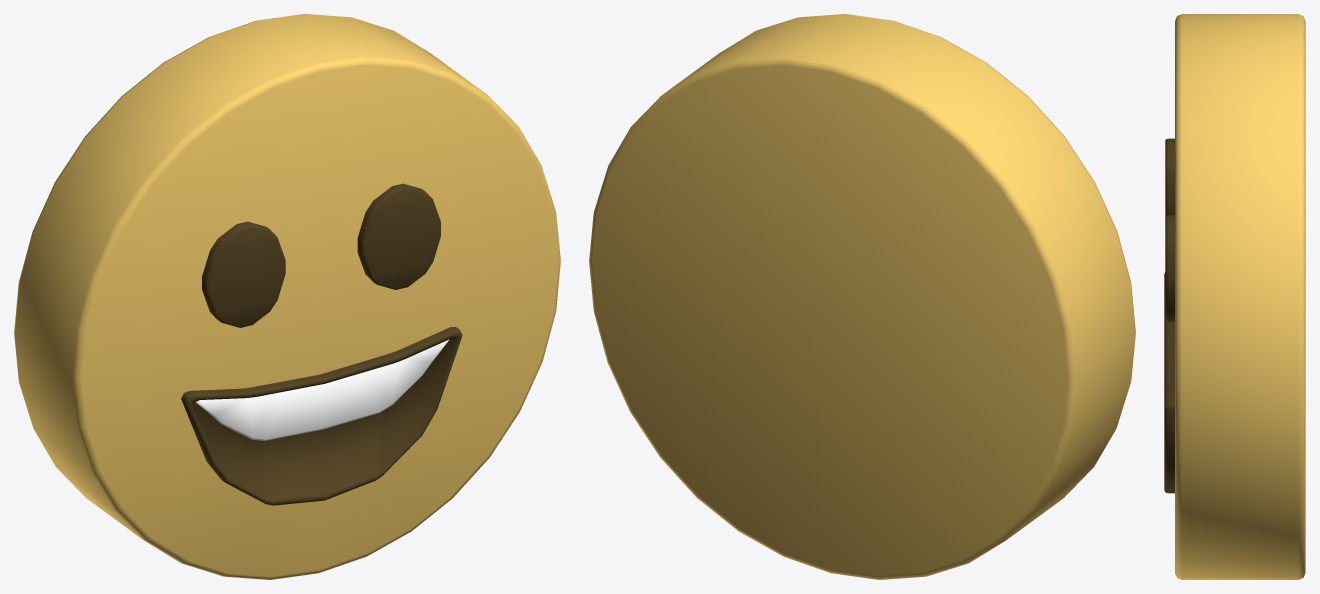
The model's file is smileg.glb.
3 views of the same model, side by side, from view 1: azimuth 30°, elevation 25°; view 2: azimuth 150°, elevation 25°; view 3: azimuth 270°, elevation 25° (orthographic).
Parts seen in each view (by area): view 1: Cylinder.124; view 2: Cylinder.124; view 3: Cylinder.124.
Boxes of the visible parts, x1,y1,x2,y2 form: Cylinder.124: [14, 14, 560, 579]; Cylinder.124: [589, 14, 1135, 579]; Cylinder.124: [1164, 14, 1305, 579].
Size of the model in its own units: 2 by 2 by 0.4978.
